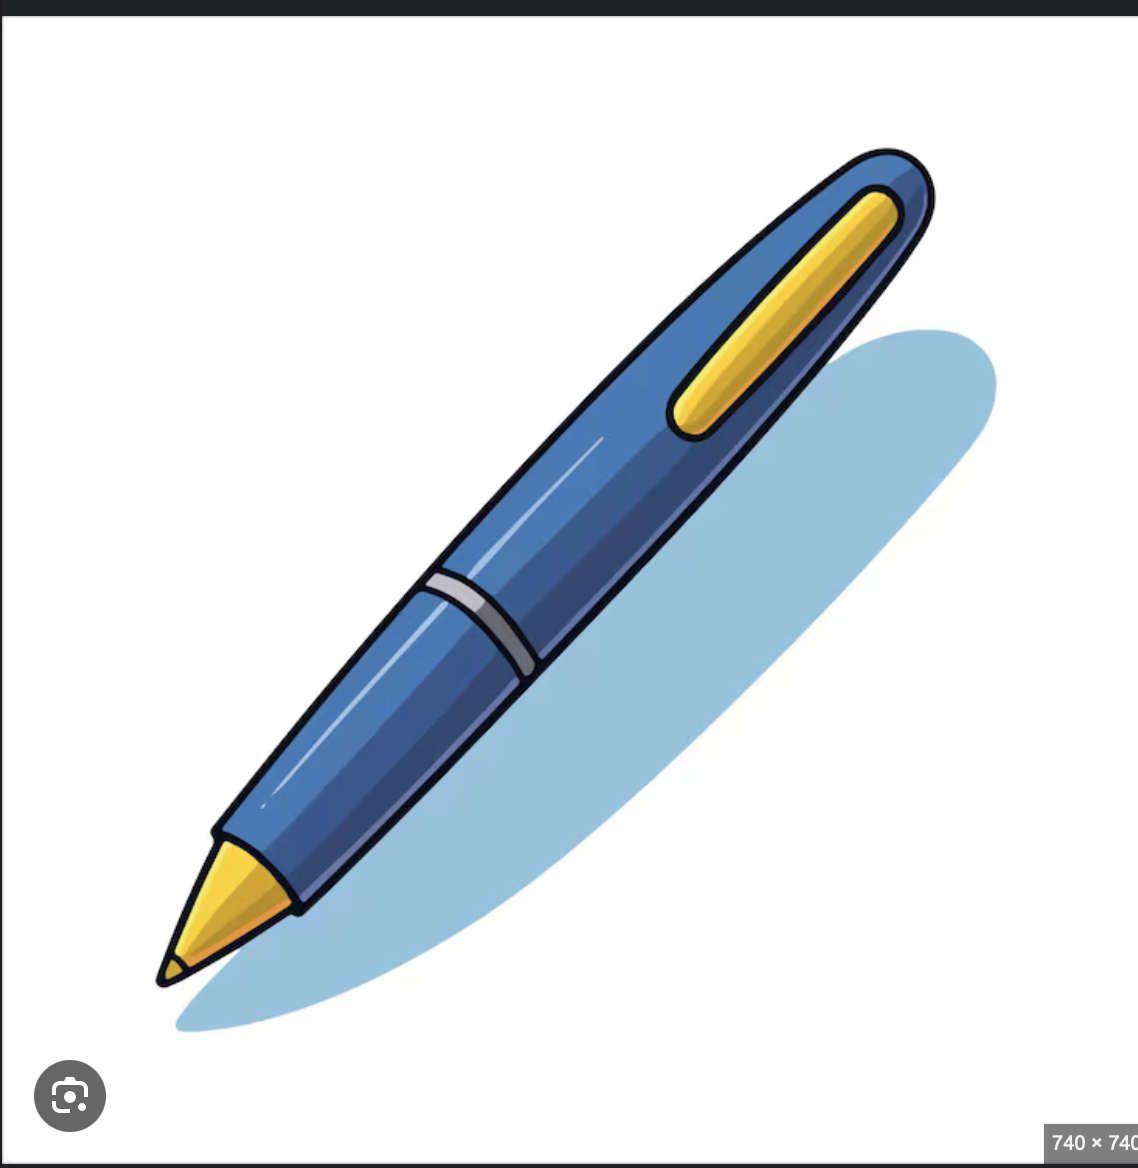pen: (127, 104, 976, 998)
